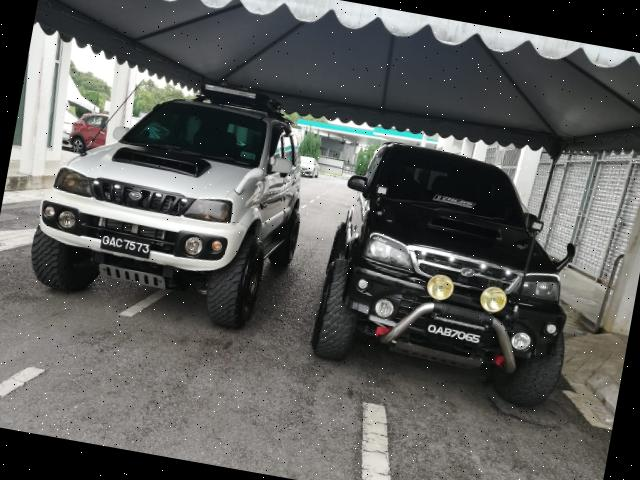License_Plate: (101, 232, 154, 261), (425, 319, 484, 345)
car: (21, 48, 322, 344), (299, 131, 601, 420)
